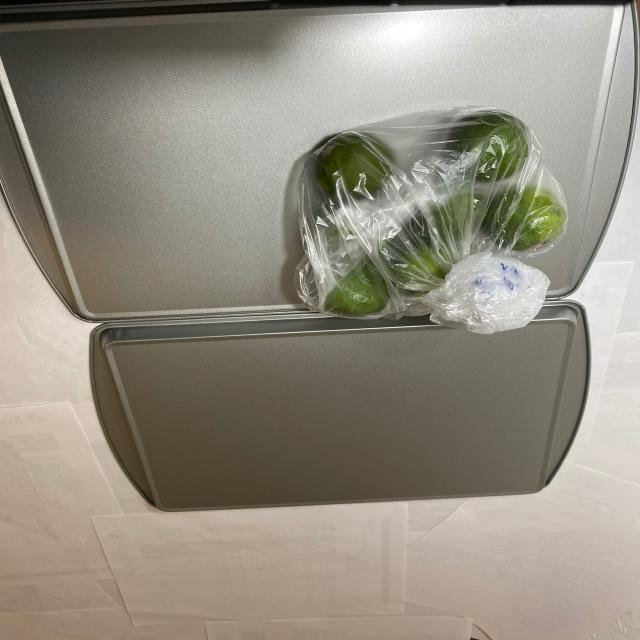lemon: (285, 114, 562, 321)
